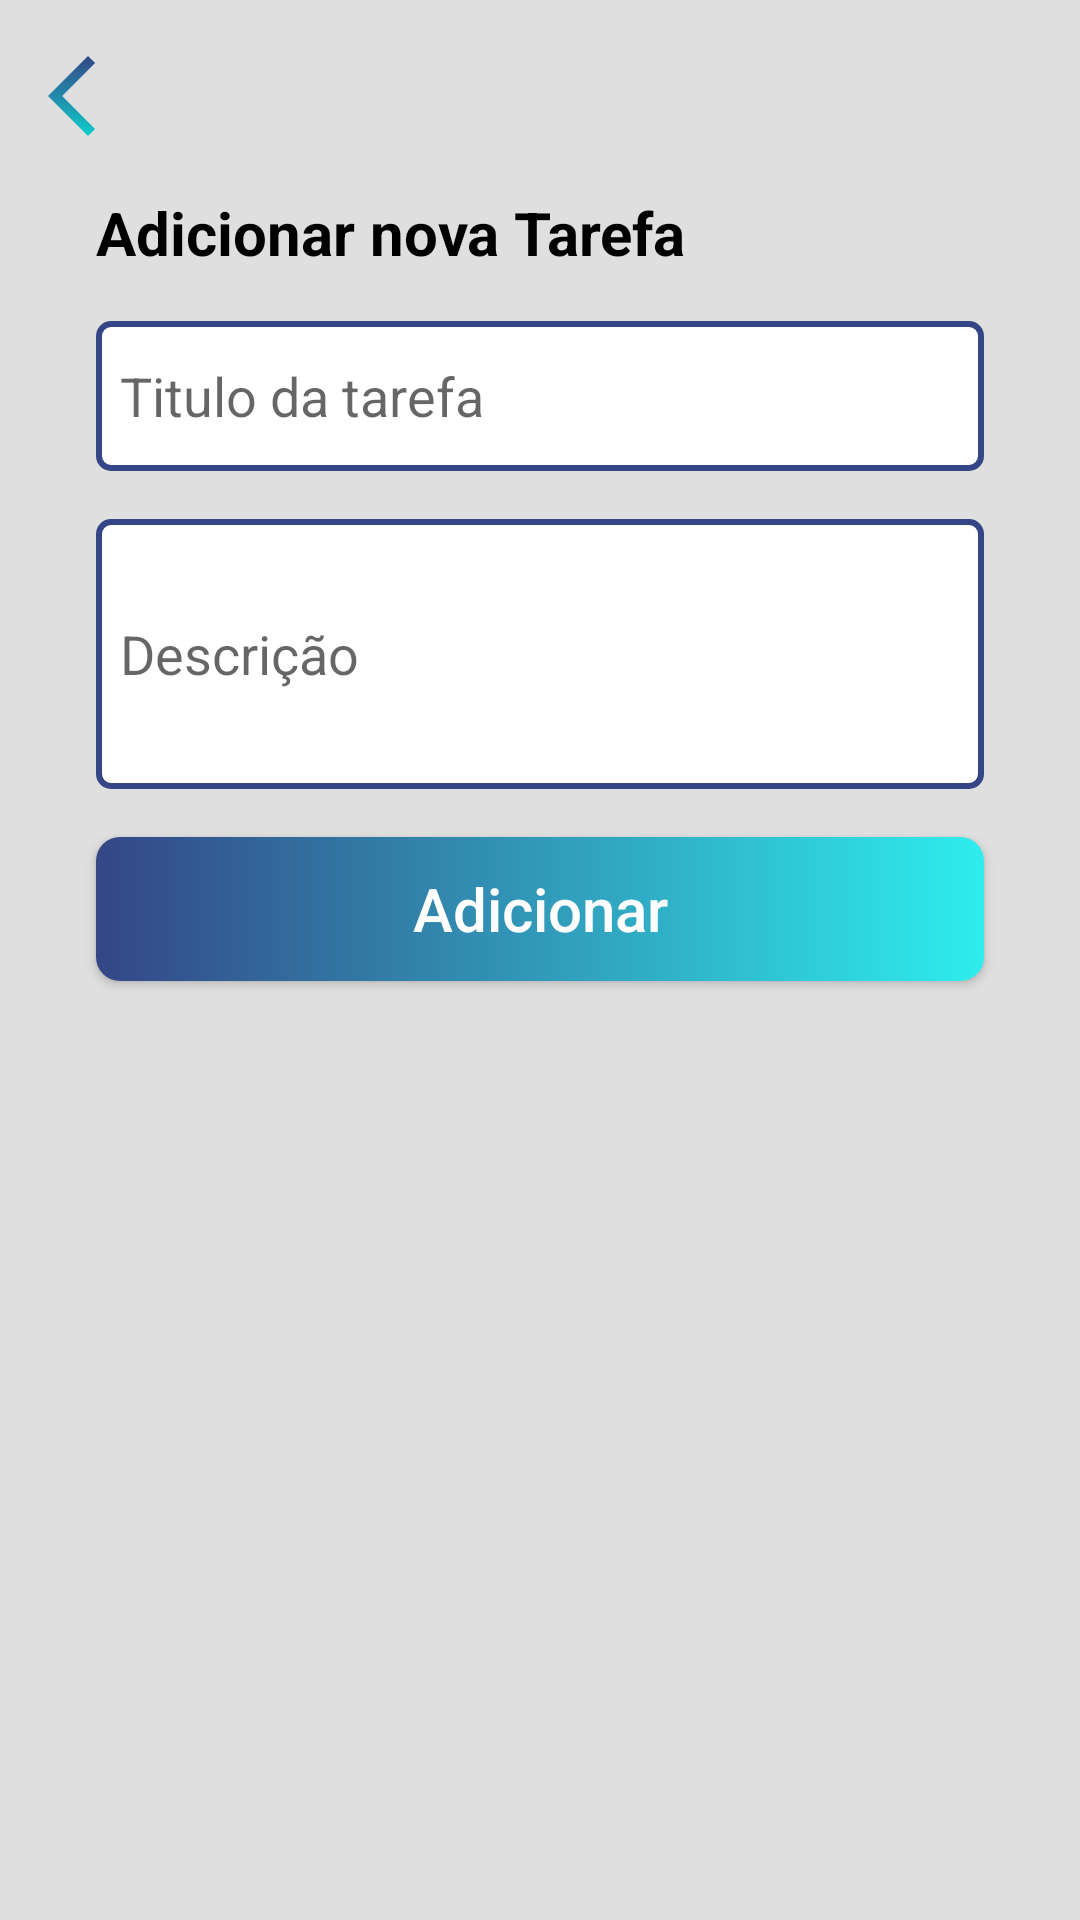

Point at icon controls on the screen. Image size 1080w x 1920h, points as (x,y).
arrow: (71,96)
